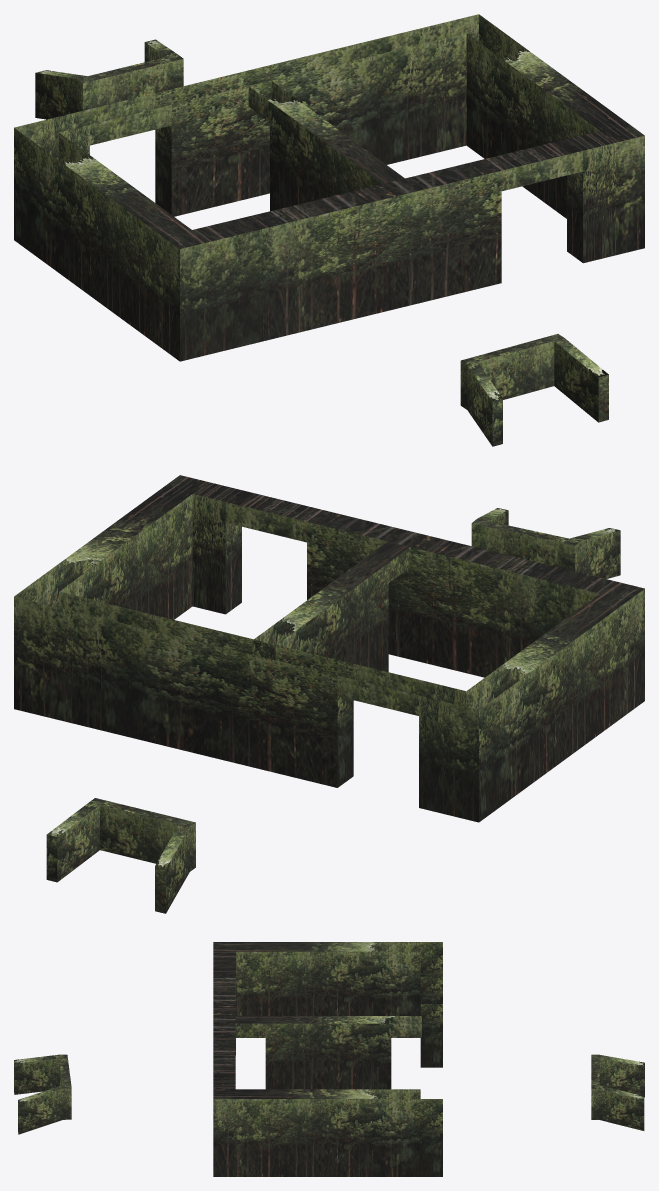
The model's file is SM_Forest_Block02.fbx.
The picture shows the model from 3 angles, top to bottom: view 1: azimuth 30°, elevation 25°; view 2: azimuth 150°, elevation 25°; view 3: azimuth 270°, elevation 25°; orthographic projection. The views are drawn at different scales.
Visible parts, largest first — view 1: SM_Forest_Block02; view 2: SM_Forest_Block02; view 3: SM_Forest_Block02.
Boxes of the visible parts, x1,y1,x2,y2 form: SM_Forest_Block02: [14, 14, 644, 446]; SM_Forest_Block02: [14, 475, 644, 913]; SM_Forest_Block02: [14, 942, 644, 1176].
Bounding box in the file's own units: 1449 × 410 × 2460.
